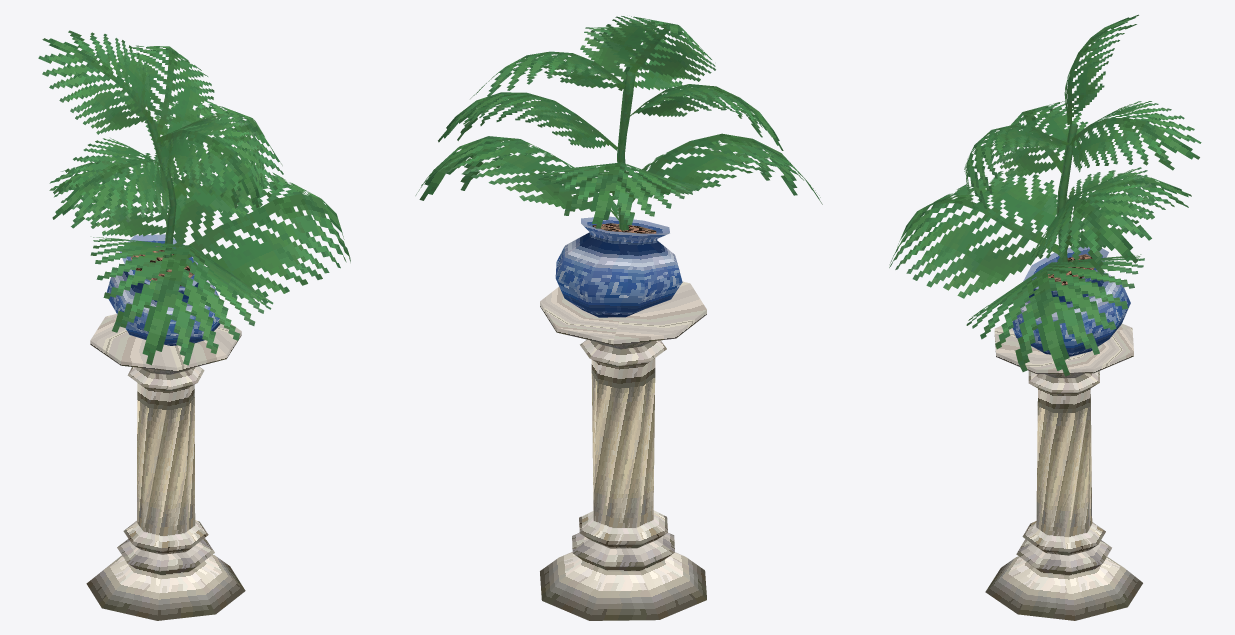
The model's file is ueki27_1.glb.
3 renders of one model, left to right at view 1: azimuth 30°, elevation 25°; view 2: azimuth 150°, elevation 25°; view 3: azimuth 270°, elevation 25°, orthographic. The views are drawn at different scales.
Visible parts, largest first — view 1: ueki27_1; view 2: ueki27_1; view 3: ueki27_1.
Part boxes in pixels (left/top/right/bottom): ueki27_1: left=38, top=30, right=350, bottom=620; ueki27_1: left=415, top=16, right=822, bottom=620; ueki27_1: left=889, top=14, right=1201, bottom=620.
Bounding box in the file's own units: 242 × 385 × 225.
5 materials, 5 textured.
